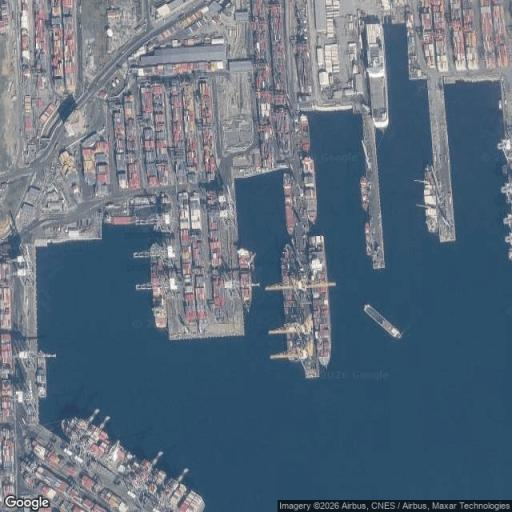ship: (61, 418, 204, 511), (366, 23, 388, 129), (281, 245, 300, 360), (149, 241, 167, 327), (312, 286, 331, 367), (364, 304, 401, 339), (425, 163, 440, 231), (238, 248, 253, 311), (302, 157, 316, 224), (284, 173, 294, 235), (36, 352, 45, 398), (300, 115, 310, 153), (360, 176, 368, 211), (365, 221, 372, 255)
